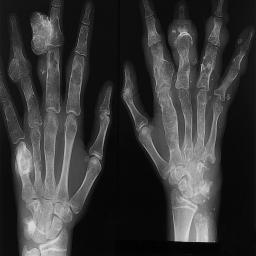cancer: (154, 58, 179, 151), (198, 151, 220, 197), (32, 12, 53, 52), (200, 47, 220, 81), (15, 143, 31, 177), (9, 56, 27, 82), (177, 32, 192, 56)
